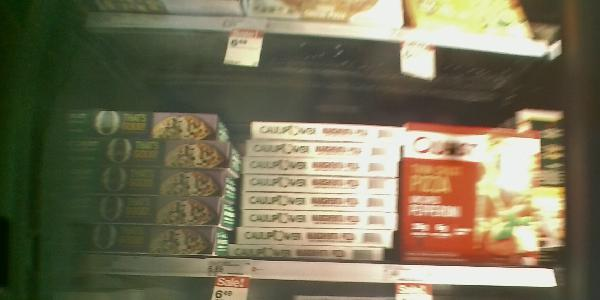pizza1: (62, 111, 218, 145), (60, 170, 229, 201), (57, 198, 222, 229), (61, 142, 231, 169), (57, 231, 218, 256), (243, 191, 397, 217), (252, 123, 404, 147), (248, 156, 398, 179), (236, 226, 393, 245), (245, 174, 399, 193), (240, 211, 397, 229), (230, 245, 385, 262), (248, 141, 402, 158)
